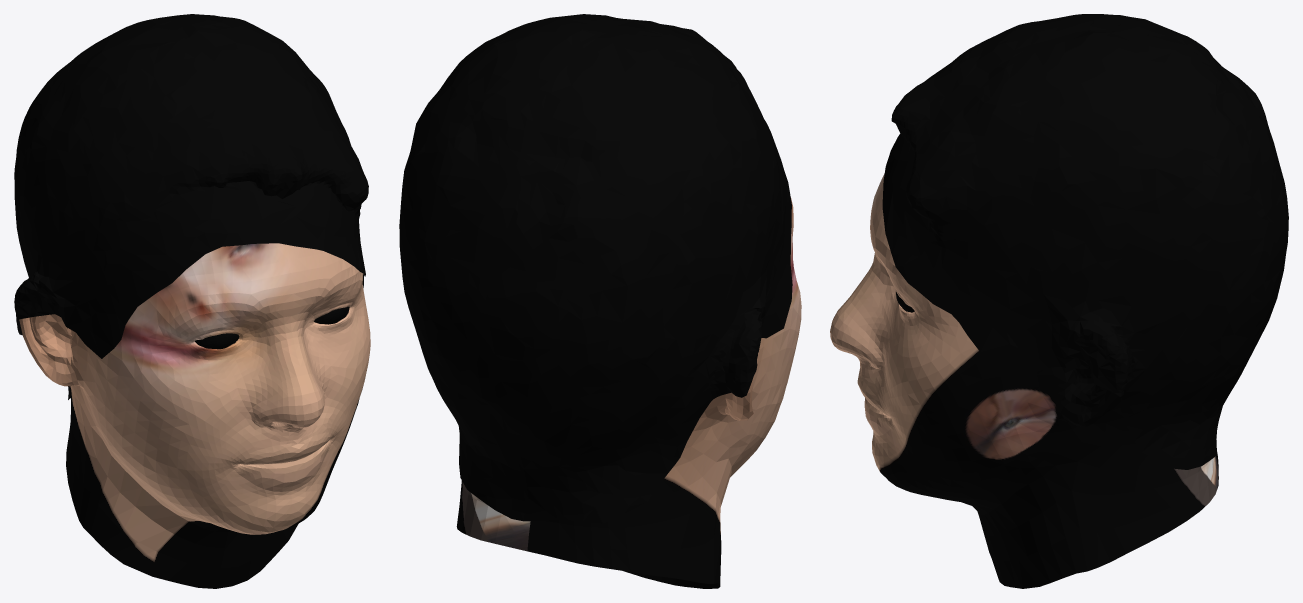
Rendered from UtsavHead.obj.
3 views of the same model, side by side, from view 1: azimuth 30°, elevation 25°; view 2: azimuth 150°, elevation 25°; view 3: azimuth 270°, elevation 25° (orthographic). The views are drawn at different scales.
Size of the model in its own units: 0.1744 by 0.2718 by 0.2062.
